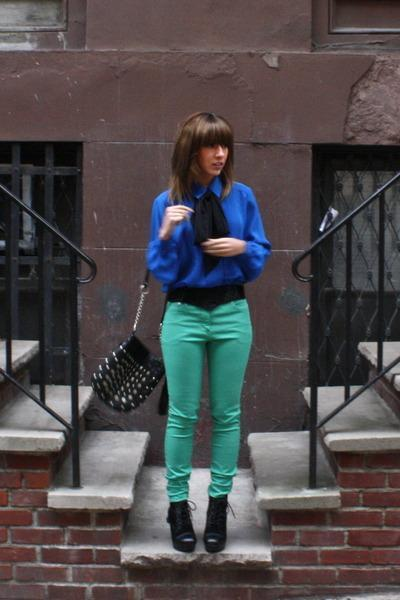bag: (92, 336, 166, 411)
pants: (160, 300, 251, 501)
shirt: (146, 177, 269, 289)
shoe: (167, 494, 227, 552)
